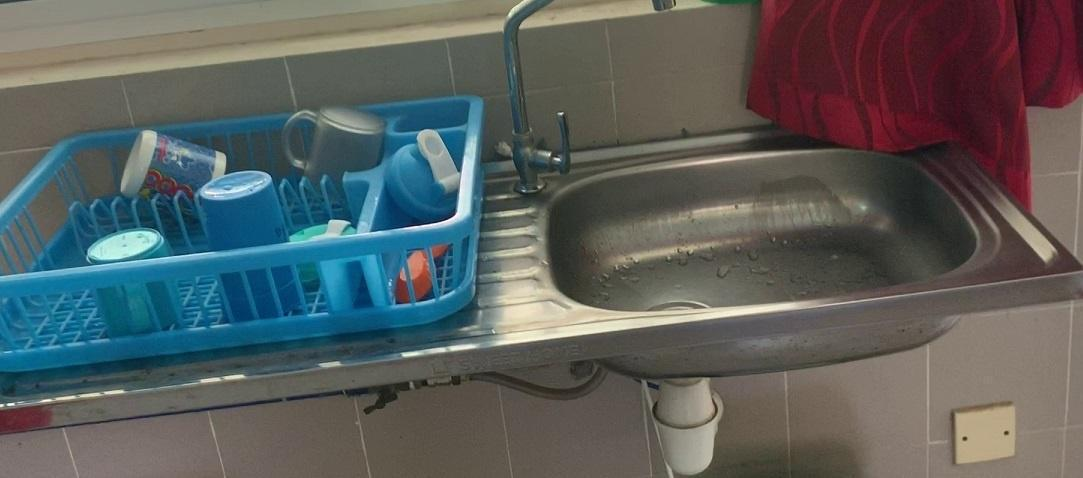Lavaplatos: (484, 0, 1062, 355)
